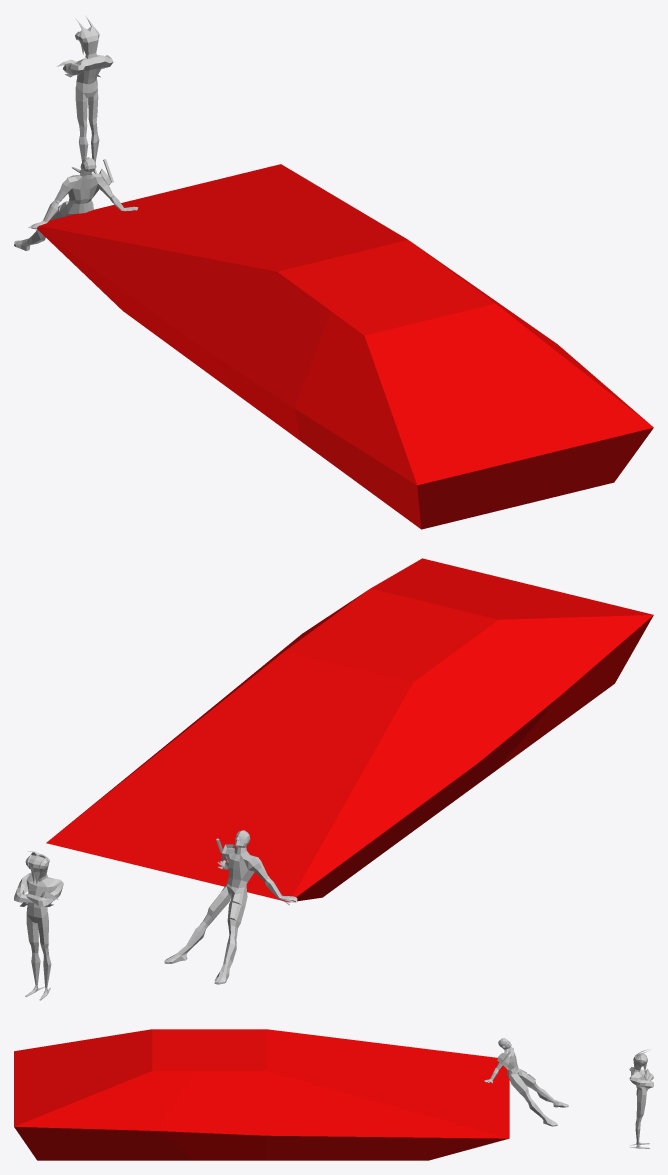
The model's file is guys.glb.
3 renders of one model, top to bottom at view 1: azimuth 30°, elevation 25°; view 2: azimuth 150°, elevation 25°; view 3: azimuth 270°, elevation 25°, orthographic. The views are drawn at different scales.
Parts seen in each view (by area): view 1: Empty_Mesh, Empty_Mesh_2, Empty_Mesh_1; view 2: Empty_Mesh, Empty_Mesh_1, Empty_Mesh_2; view 3: Empty_Mesh, Empty_Mesh_1, Empty_Mesh_2.
Boxes of the visible parts, left/top/right/bottom form: Empty_Mesh: left=36, top=164, right=653, bottom=529; Empty_Mesh_2: left=56, top=15, right=113, bottom=173; Empty_Mesh_1: left=14, top=157, right=138, bottom=250; Empty_Mesh: left=46, top=558, right=653, bottom=902; Empty_Mesh_1: left=164, top=830, right=297, bottom=984; Empty_Mesh_2: left=14, top=851, right=63, bottom=1000; Empty_Mesh: left=14, top=1029, right=509, bottom=1160; Empty_Mesh_1: left=484, top=1038, right=568, bottom=1126; Empty_Mesh_2: left=629, top=1049, right=653, bottom=1148.
Bounding box in the file's own units: 1.51 × 0.8231 × 4.88.
